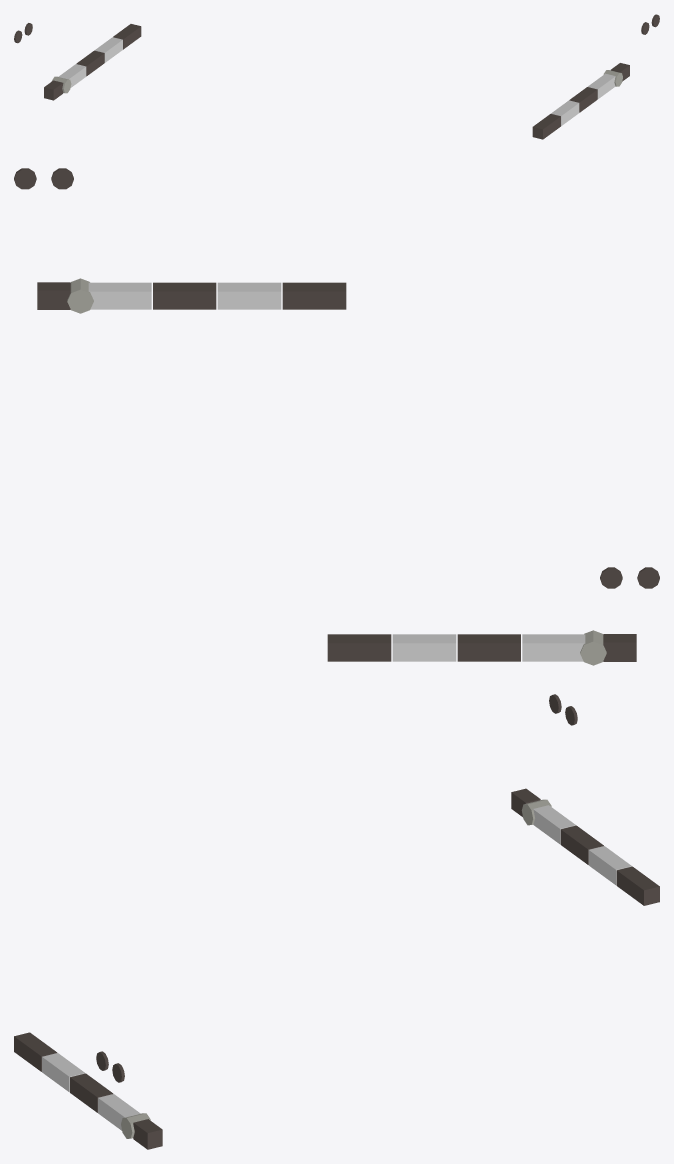
Rendered from SM_PasoNivel_60_v0_Teja_LOD1.fbx.
3 views of the same model, one above another, from view 1: azimuth 30°, elevation 25°; view 2: azimuth 150°, elevation 25°; view 3: azimuth 270°, elevation 25° (orthographic). The views are drawn at different scales.
Parts seen in each view (by area): view 1: Barrera_2, Barrera_1; view 2: Barrera_2, Barrera_1, Luces_B, Luces_A; view 3: Barrera_1, Barrera_2.
Part boxes in pixels (x1,y1,x2,y2): Barrera_2: (44, 24, 141, 100); Barrera_1: (532, 63, 629, 139); Barrera_2: (327, 630, 636, 665); Barrera_1: (37, 278, 346, 313); Luces_B: (14, 168, 622, 588); Luces_A: (51, 168, 659, 588); Barrera_1: (14, 1032, 162, 1149); Barrera_2: (511, 788, 659, 905).
Size of what is drawn, in the model's own units: 15.52 by 1.91 by 11.25.
